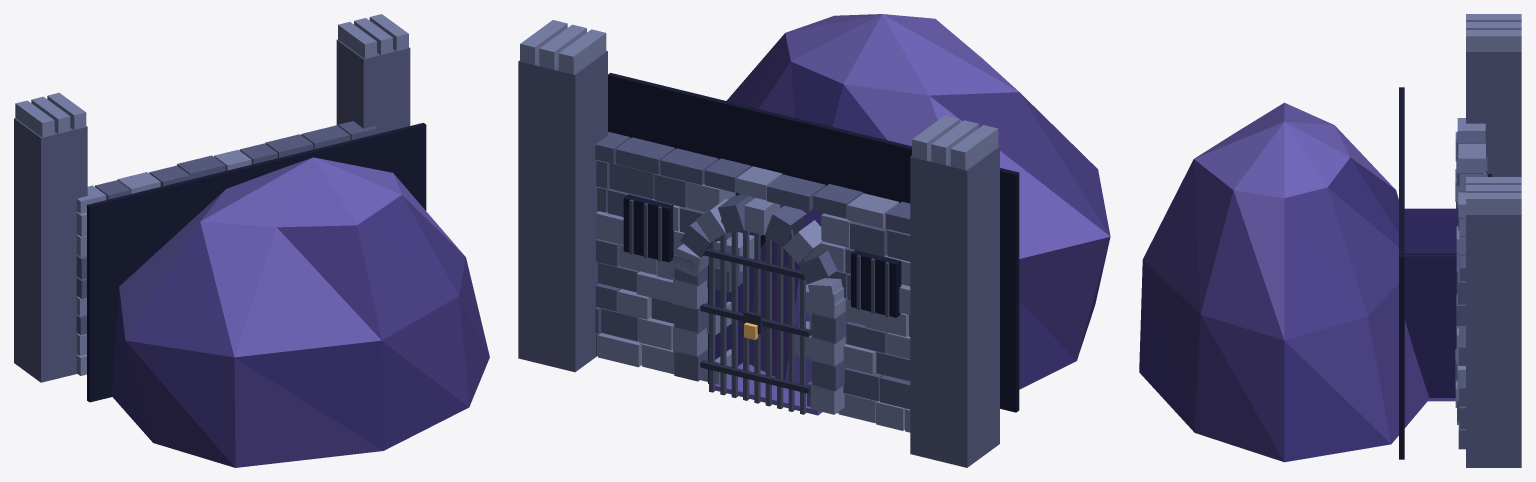
Rendered from Mine_Door_Gate.obj.
3 renders of one model, left to right at view 1: azimuth 30°, elevation 25°; view 2: azimuth 150°, elevation 25°; view 3: azimuth 270°, elevation 25°, orthographic. The views are drawn at different scales.
Visible parts, largest first — view 1: Mine_Door_Gate; view 2: Mine_Door_Gate; view 3: Mine_Door_Gate.
Part boxes in pixels (x1,y1,x2,y2): Mine_Door_Gate: [14, 14, 489, 467]; Mine_Door_Gate: [518, 14, 1110, 467]; Mine_Door_Gate: [1139, 14, 1521, 467].
Size of the model in its own units: 7.97 by 5.38 by 6.85.
